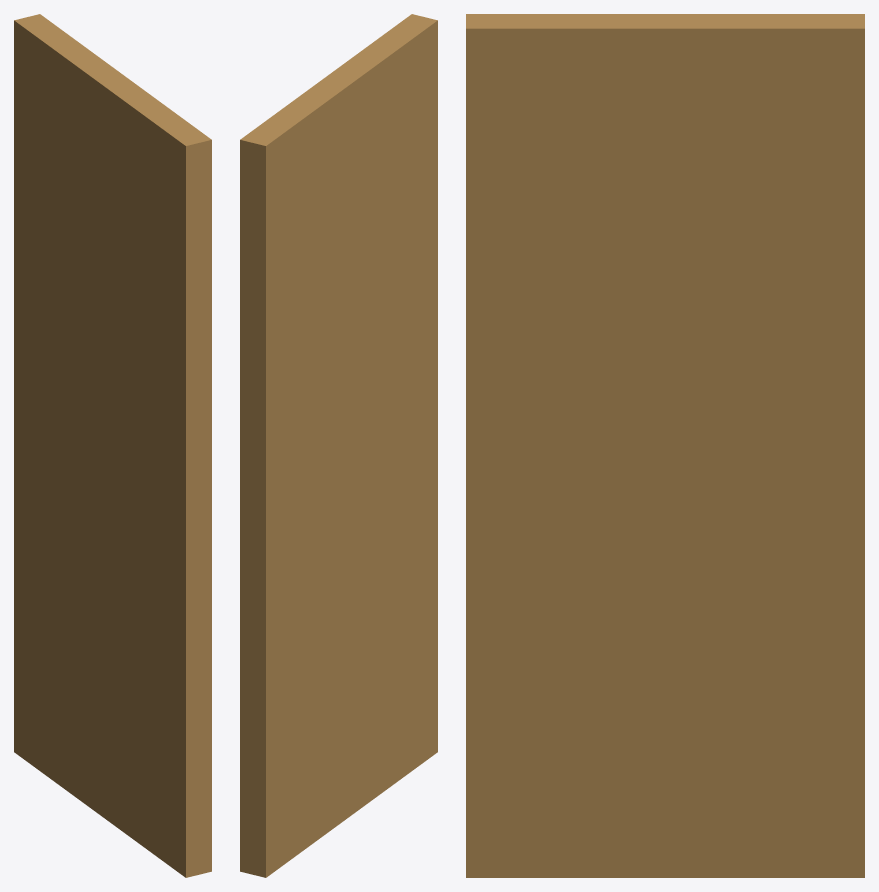
The picture shows the model from 3 angles, left to right: view 1: azimuth 30°, elevation 25°; view 2: azimuth 150°, elevation 25°; view 3: azimuth 270°, elevation 25°; orthographic projection. The views are drawn at different scales.
Parts seen in each view (by area): view 1: FF-W136; view 2: FF-W136; view 3: FF-W136.
Part boxes in pixels (x1,y1,x2,y2): FF-W136: (14,14,211,877); FF-W136: (240,14,437,877); FF-W136: (466,14,864,877).
Size of the model in its own units: 0.09 by 2.42 by 1.03.
